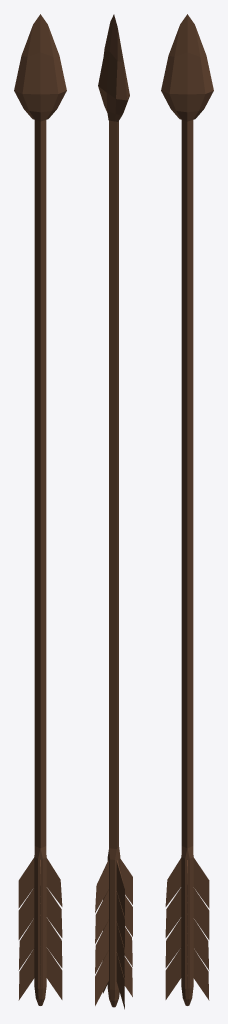
Rendered from Arrow.fbx.
3 views of the same model, side by side, from view 1: azimuth 90°, elevation 25°; view 2: azimuth 210°, elevation 25°; view 3: azimuth 270°, elevation 25° (orthographic).
Parts seen in each view (by area): view 1: Arrow; view 2: Arrow; view 3: Arrow.
Boxes of the visible parts, x1,y1,x2,y2 form: Arrow: [14, 14, 66, 1005]; Arrow: [95, 14, 132, 1009]; Arrow: [161, 14, 213, 1005].
Bounding box in the file's own units: 0.1568 × 3.92 × 0.1897.
